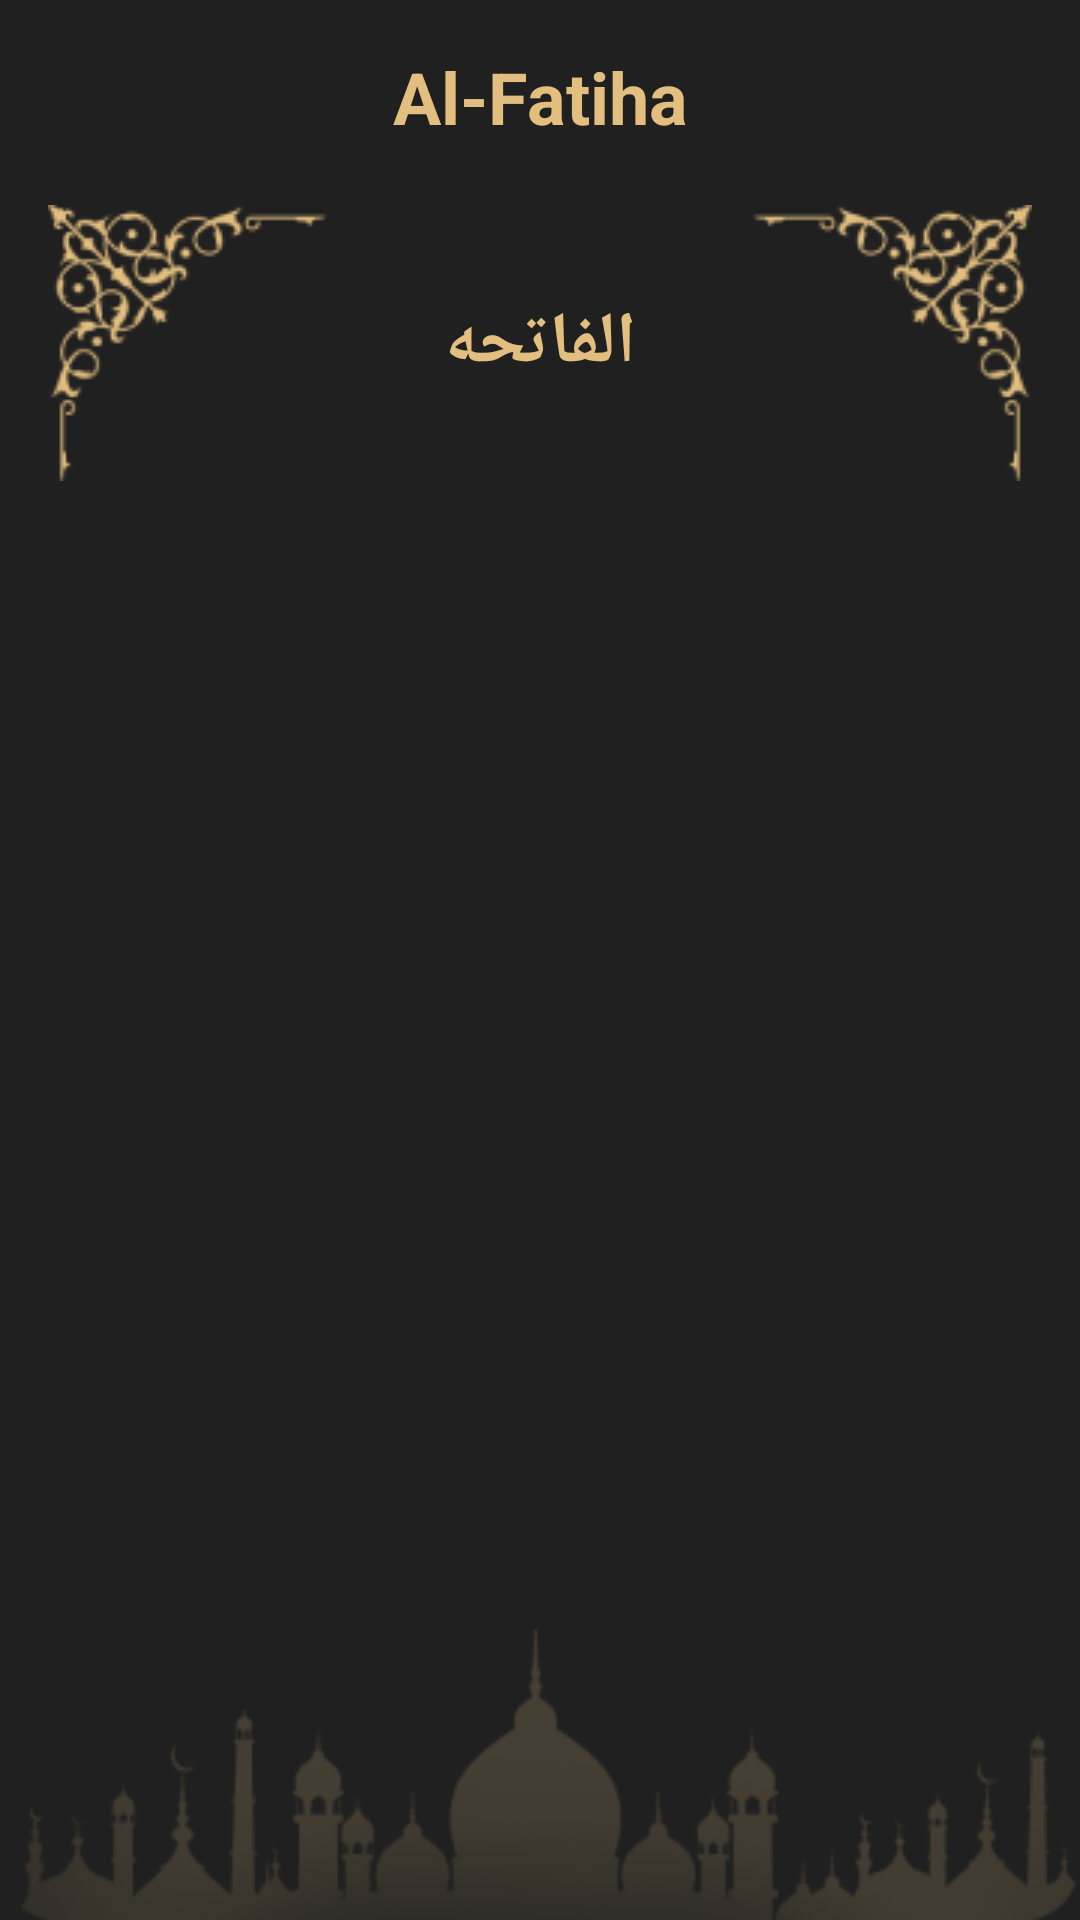

Point at icon controls on the screen. Image size 1080*1920, points as (x,y).
left corner: (186,343)
right corner: (893,343)
